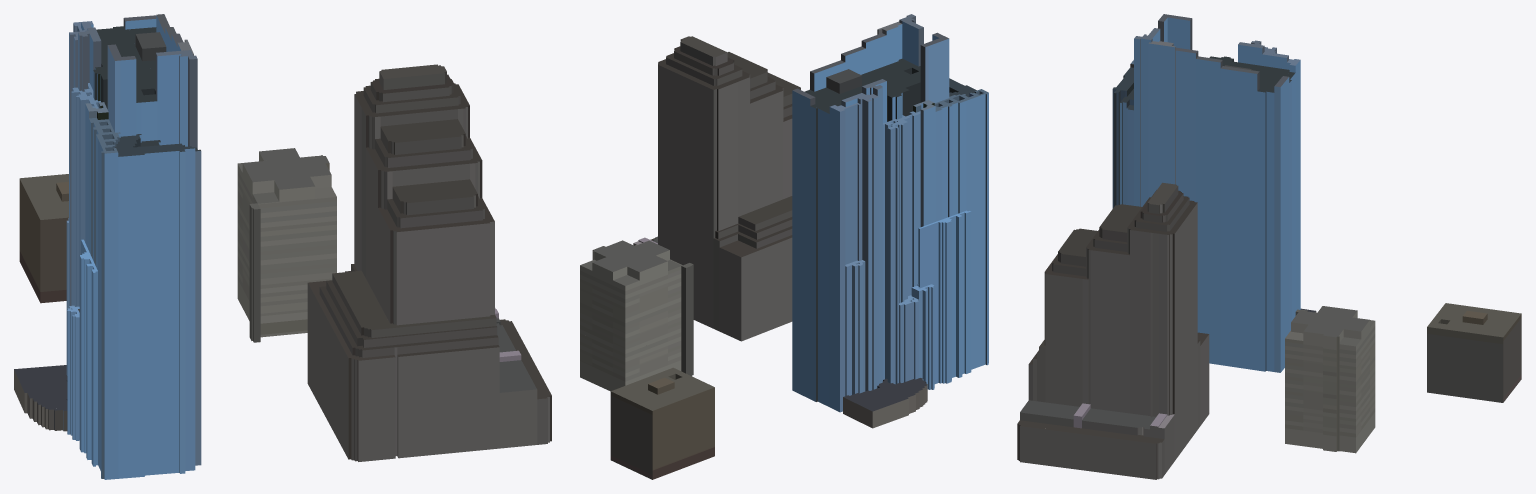
Rendered from t_-2_7.far.glb.
The picture shows the model from 3 angles, left to right: view 1: azimuth 30°, elevation 25°; view 2: azimuth 150°, elevation 25°; view 3: azimuth 270°, elevation 25°; orthographic projection. The views are drawn at different scales.
Visible parts, largest first — view 1: opaque; view 2: opaque; view 3: opaque.
Boxes of the visible parts, bbox=[...] form: opaque: bbox=[14, 14, 551, 479]; opaque: bbox=[580, 14, 988, 479]; opaque: bbox=[1017, 14, 1521, 479].
Bounding box in the file's own units: 178 × 161 × 233.
1 material, 1 textured.
